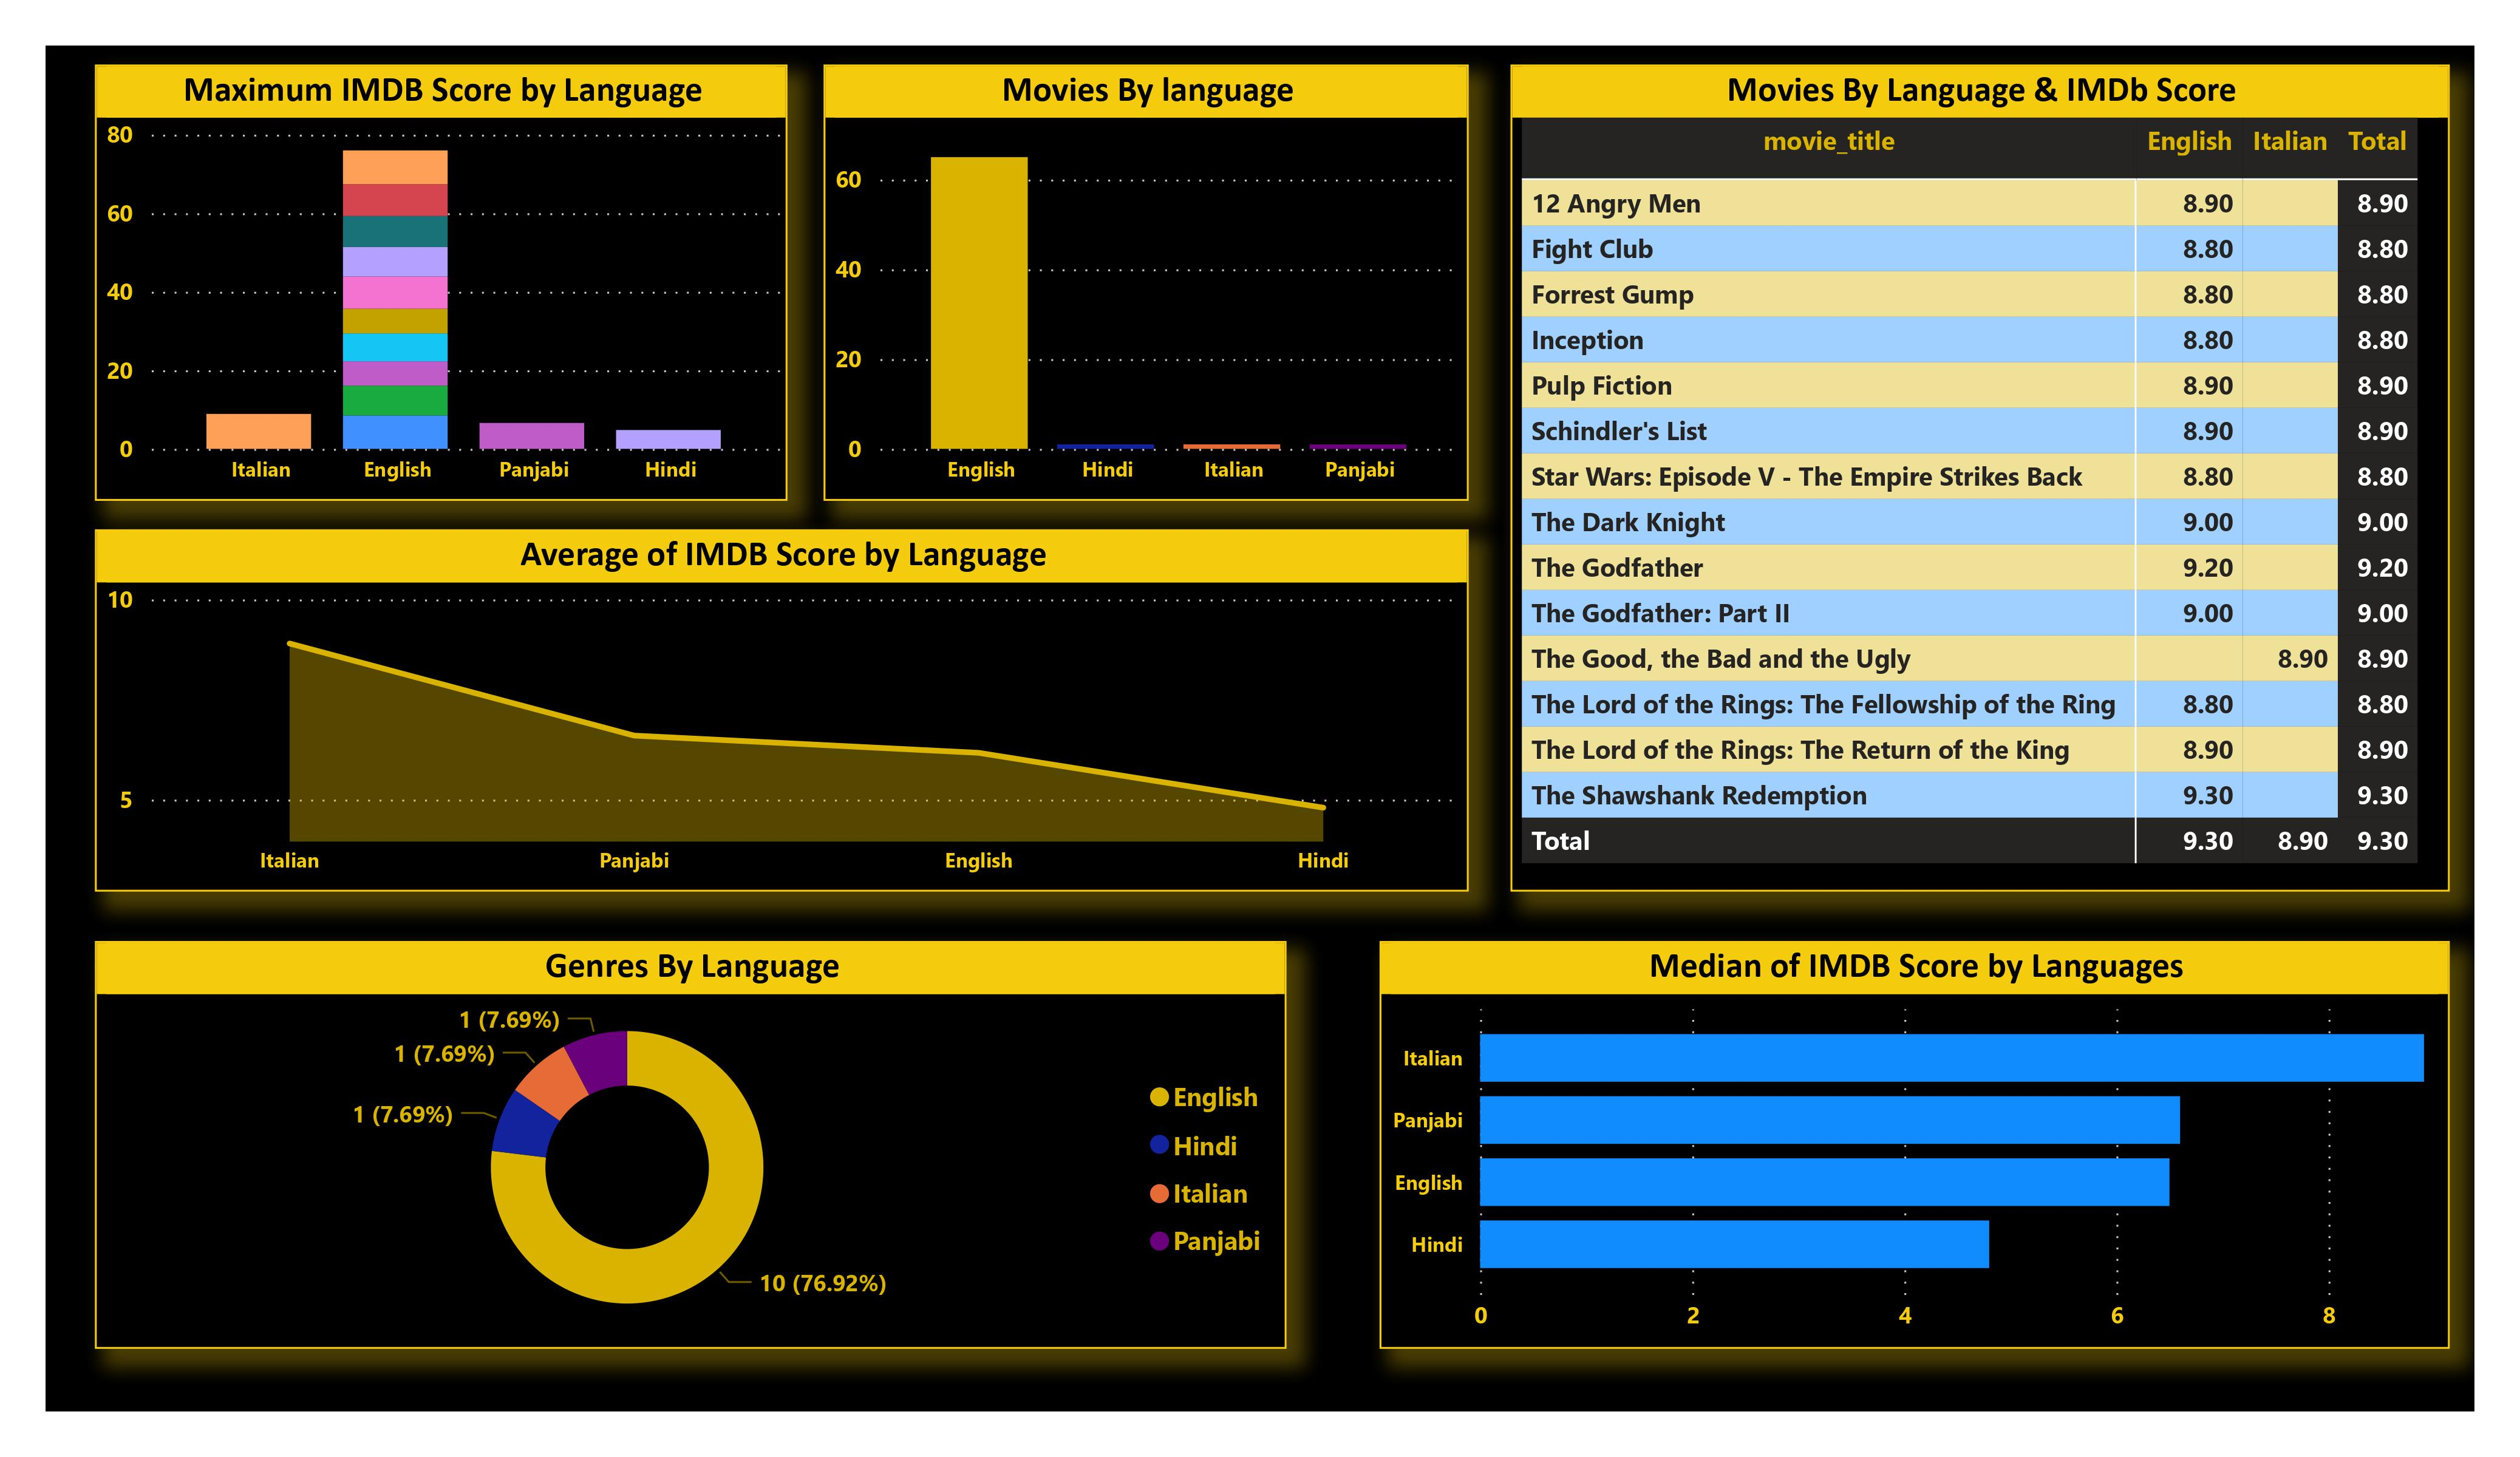

The dashboard page shown, as its layout file describes it:
{"tool":"powerbi","page":{"name":"Page 4","canvas":[1280,720],"ordinal":3},"visuals":[{"type":"lineStackedColumnComboChart","title":"Movies By language","fields":{"Category":["imdb_cleaned.language"],"Series":["imdb_cleaned.language"],"Y":["Count(imdb_cleaned.movie_title)"]},"box":[409.9,9.6,340,230.3],"z":0},{"type":"donutChart","title":"Genres By Language","fields":{"Category":["imdb_cleaned.language"],"Y":["Count(imdb_cleaned.genres)"]},"box":[26,471.6,627.9,215.3],"z":1},{"type":"lineStackedColumnComboChart","title":"Maximum IMDB Score by Language","fields":{"Category":["imdb_cleaned.language"],"Y":["Max(imdb_cleaned.imdb_score)"],"Series":["imdb_cleaned.genres"]},"box":[26,9.6,364.7,230.3],"z":2},{"type":"areaChart","title":"Average of IMDB Score by Language","fields":{"Category":["imdb_cleaned.language"],"Y":["Avg(imdb_cleaned.imdb_score)"]},"box":[26,255,723.9,190.6],"z":3},{"type":"pivotTable","title":"Movies By Language & IMDb Score","fields":{"Rows":["imdb_cleaned.movie_title"],"Values":["Max(imdb_cleaned.imdb_score)"],"Columns":["imdb_cleaned.language"]},"box":[771.9,9.6,494.9,436],"z":4},{"type":"clusteredBarChart","title":"Median of IMDB Score by Languages","fields":{"Y":["Median(imdb_cleaned.imdb_score)"],"Category":["imdb_cleaned.language"]},"box":[703.3,471.6,563.5,215.3],"z":5}]}

Visuals, with their boxes in screenshot pixels (x1, y1, x2, y2):
"Movies By language" lineStackedColumnComboChart: [x1=823, y1=64, x2=1468, y2=501]
"Genres By Language" donutChart: [x1=95, y1=940, x2=1286, y2=1349]
"Maximum IMDB Score by Language" lineStackedColumnComboChart: [x1=95, y1=64, x2=787, y2=501]
"Average of IMDB Score by Language" areaChart: [x1=95, y1=529, x2=1468, y2=891]
"Movies By Language & IMDb Score" pivotTable: [x1=1510, y1=64, x2=2450, y2=891]
"Median of IMDB Score by Languages" clusteredBarChart: [x1=1380, y1=940, x2=2450, y2=1349]
